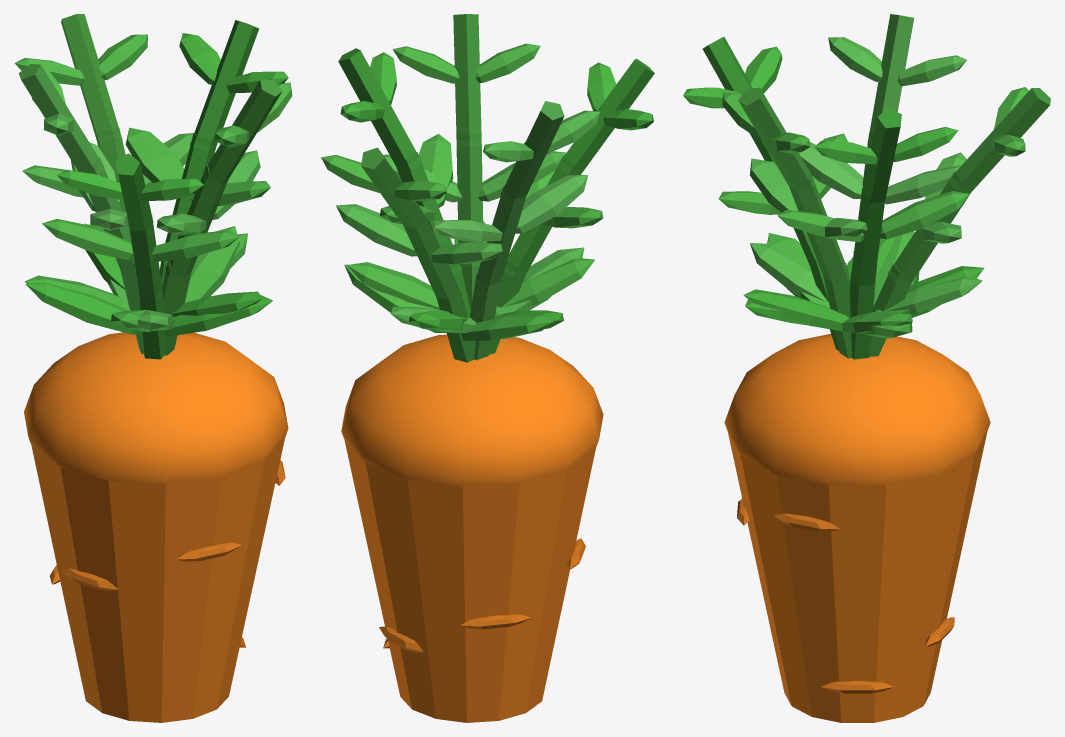
Rendered from Planta_Carrot.fbx.
3 renders of one model, left to right at view 1: azimuth 30°, elevation 25°; view 2: azimuth 150°, elevation 25°; view 3: azimuth 270°, elevation 25°, orthographic.
Parts seen in each view (by area): view 1: Produto_Carrot, Corpo_Carrot; view 2: Produto_Carrot, Corpo_Carrot; view 3: Produto_Carrot, Corpo_Carrot.
Part boxes in pixels (x1,y1,x2,y2): Produto_Carrot: [24, 332, 288, 722]; Corpo_Carrot: [14, 14, 292, 359]; Produto_Carrot: [341, 334, 603, 722]; Corpo_Carrot: [321, 14, 654, 362]; Produto_Carrot: [724, 333, 990, 722]; Corpo_Carrot: [683, 14, 1050, 359].
Bounding box in the file's own units: 0.667 × 1.57 × 0.8292.
Materials: 1 (1 with a texture image).
